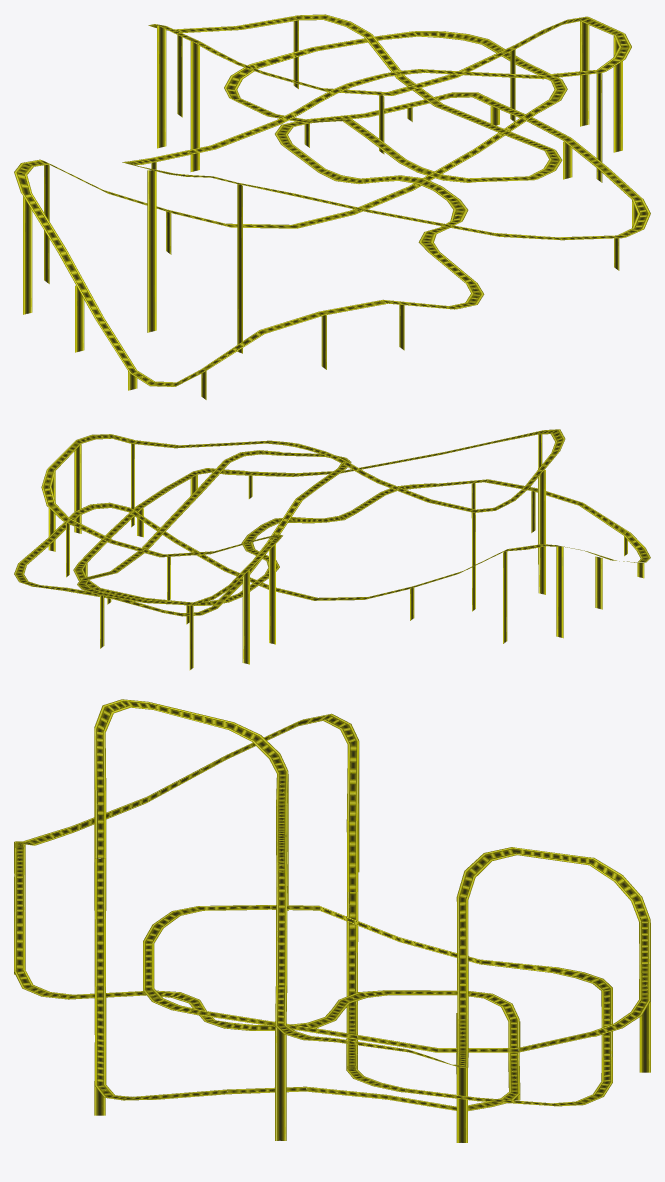
The model's file is 00_TRACK.glb.
The picture shows the model from 3 angles, top to bottom: view 1: azimuth 30°, elevation 25°; view 2: azimuth 150°, elevation 25°; view 3: azimuth 270°, elevation 25°; orthographic projection. The views are drawn at different scales.
Parts seen in each view (by area): view 1: 00_TRACK; view 2: 00_TRACK; view 3: 00_TRACK.
Boxes of the visible parts, x1=… form: 00_TRACK: x1=14, y1=14, x2=650, y2=399; 00_TRACK: x1=14, y1=429, x2=650, y2=670; 00_TRACK: x1=14, y1=699, x2=650, y2=1142.
Bounding box in the file's own units: 14316 × 4185 × 12025.
1 material, 1 textured.
